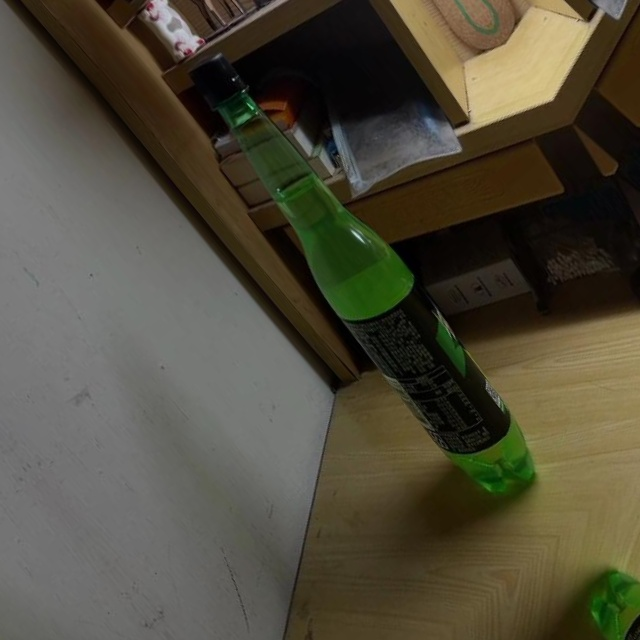Mountain-Dew: (149, 44, 569, 518)
